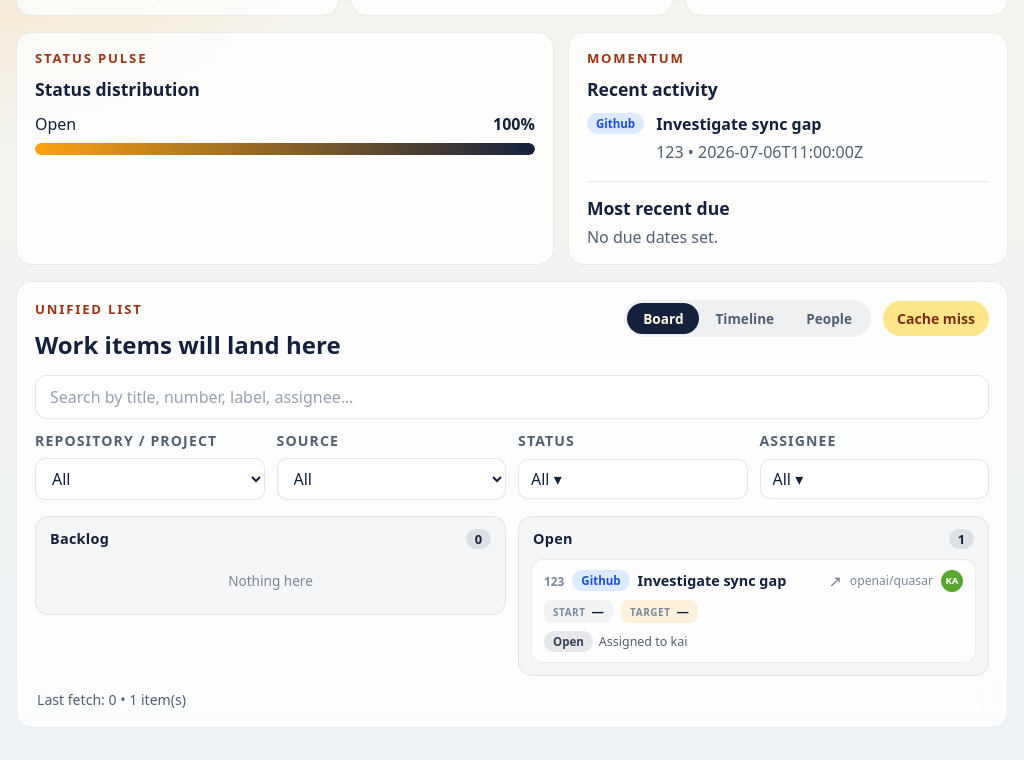
Scenario: clicking a card opens the detail modal and fetches detail lazily
The image size is (1024, 760).
(page scrolled)
Expected: the text "Investigate sync gap" is shown, 656,113 -> 822,135
What coordinates should you click on to do the following:
click the button "Investigate sync gap"
I would click on:
 (729, 581)
Its box is 638,572 -> 820,590.
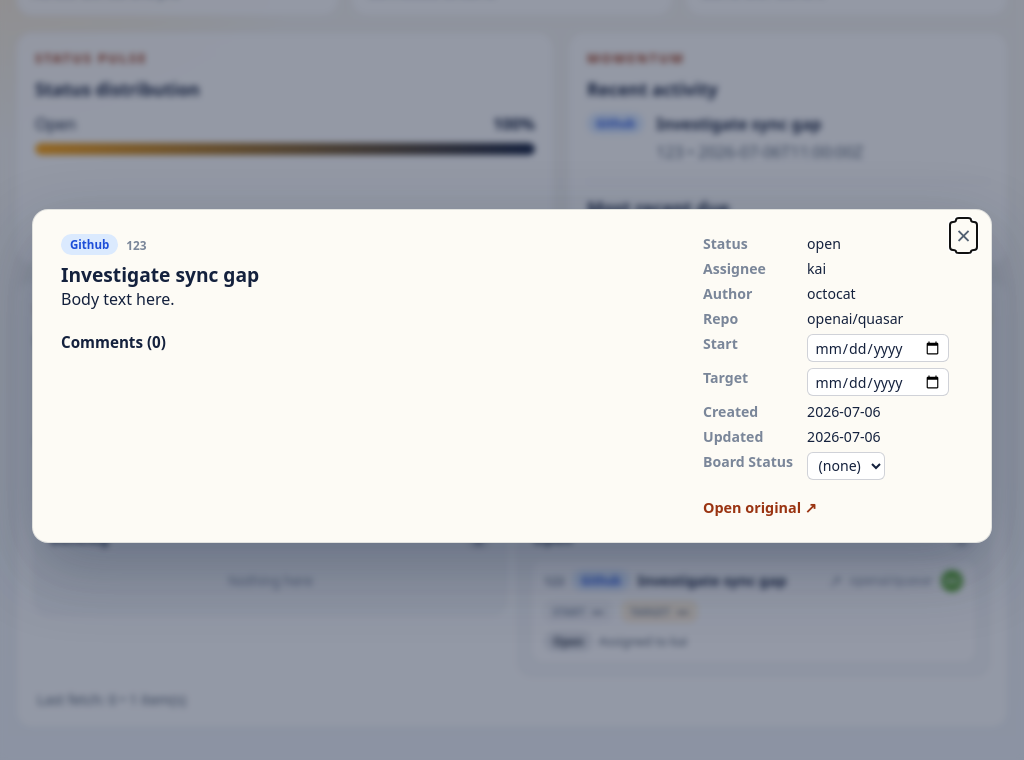
Now the text "Body text here." is shown, box 61,288 -> 175,310
